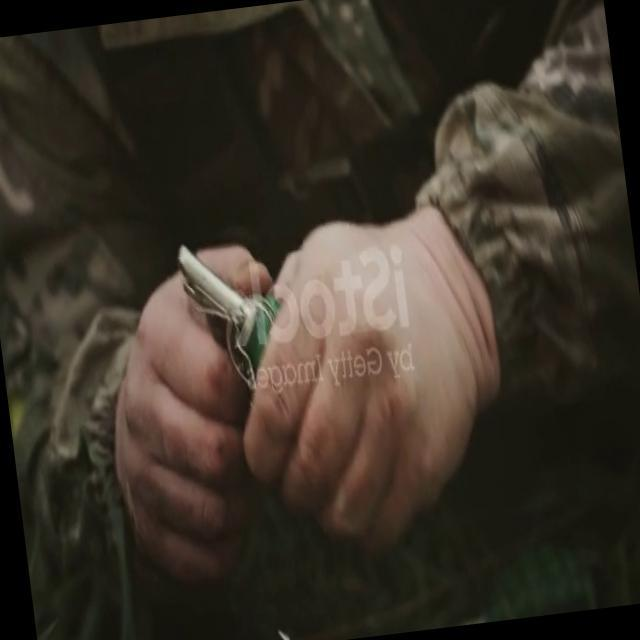grenade: (167, 232, 274, 381)
